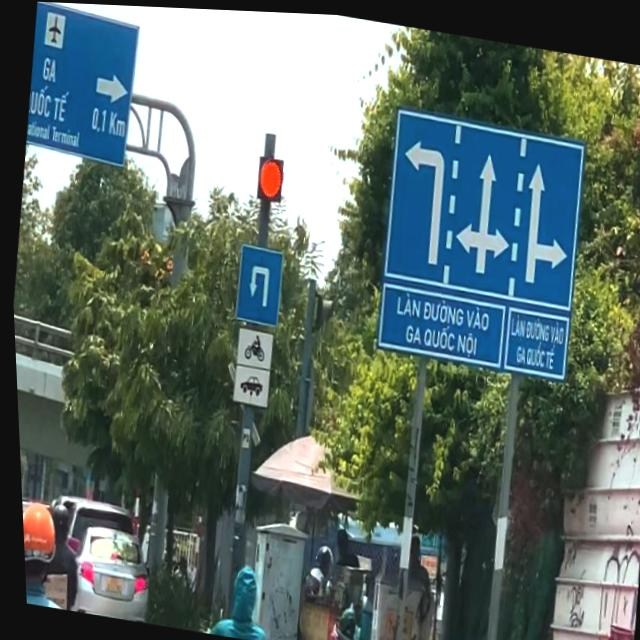Cho quay xe: (229, 240, 285, 327)
